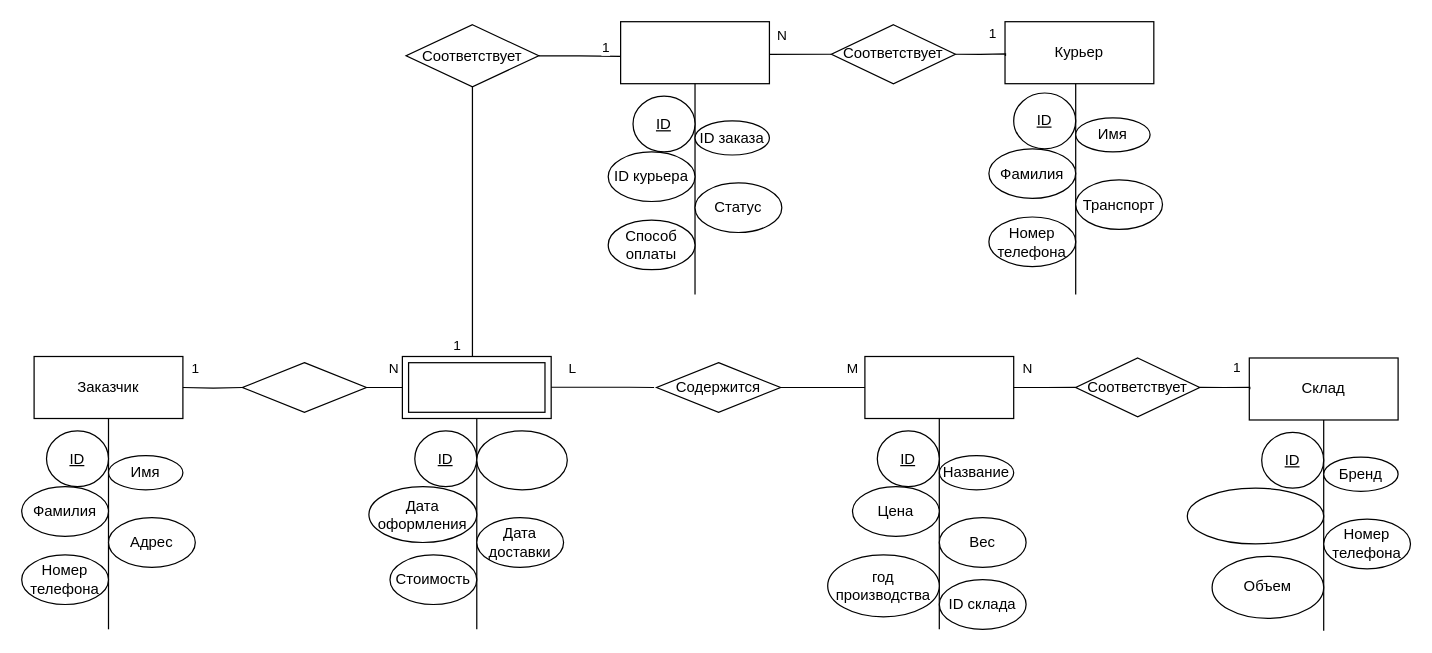
This 1432x653 diagram has some shape labels left out. The shapes that lost their labels are listed below. From the top down, each one's centre as x and y in pixels, then its label:
At [694,52]: "Доставка".
At [303,386]: "Оформляет".
At [476,386]: "Заказ".
At [939,386]: "Продукт".
At [521,460]: "ID заказчика".
At [1255,515]: "Местоположение".
